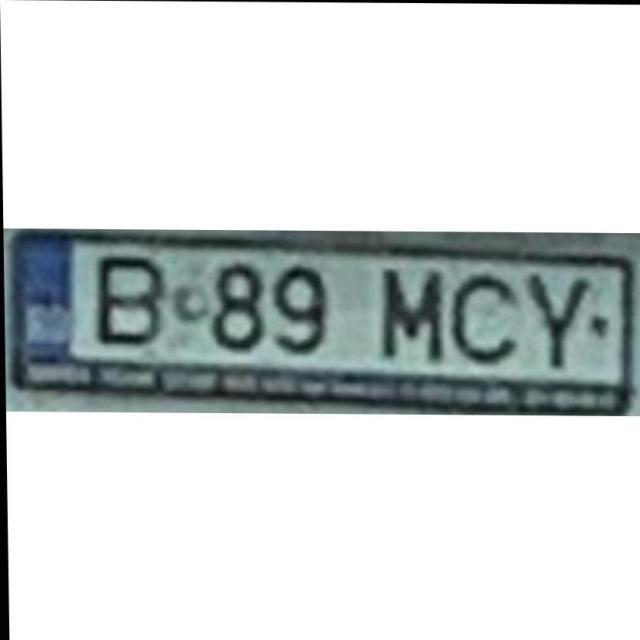license-plates: (5, 230, 640, 414)
